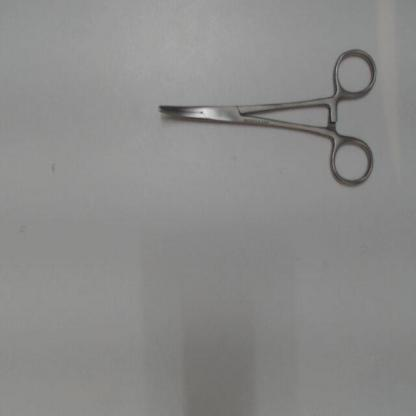Crile Artery Forceps: (150, 39, 385, 198)
